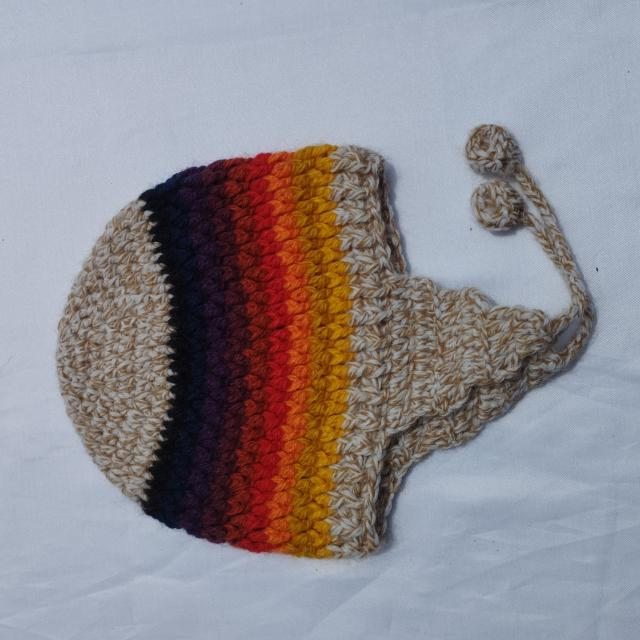Gorro: (55, 124, 597, 561)
